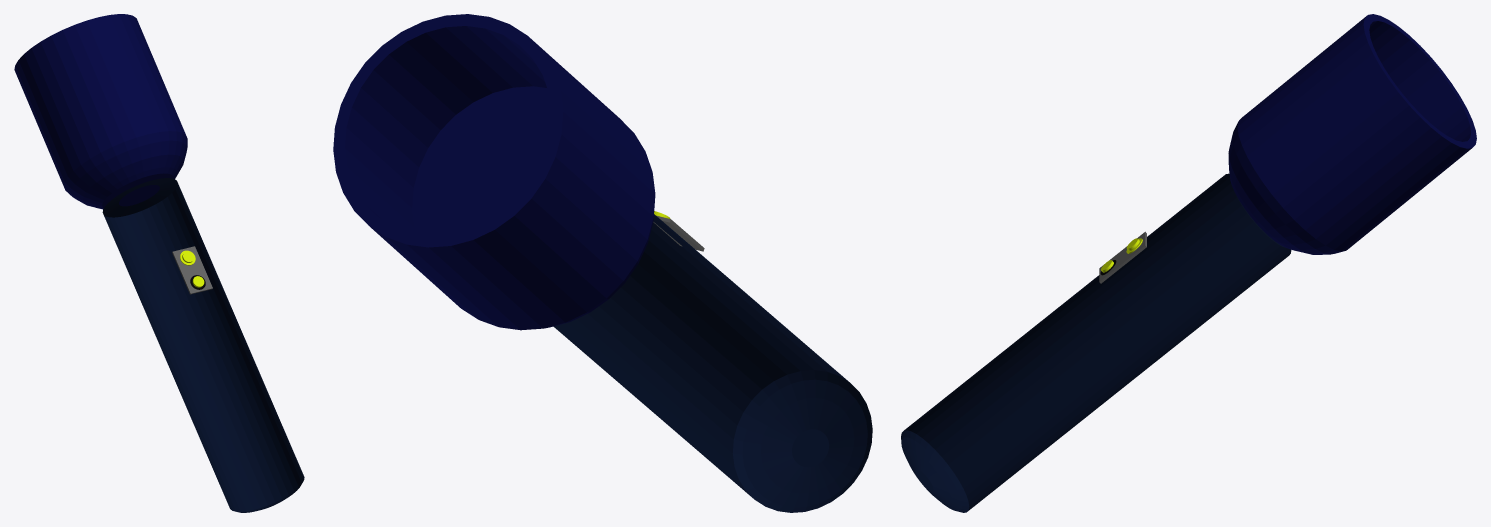
The model's file is LINTERNA - TERMINADA.fbx.
The picture shows the model from 3 angles, left to right: view 1: azimuth 30°, elevation 25°; view 2: azimuth 150°, elevation 25°; view 3: azimuth 270°, elevation 25°; orthographic projection. The views are drawn at different scales.
Parts seen in each view (by area): view 1: Cylinder.005; view 2: Cylinder.005; view 3: Cylinder.005.
Boxes of the visible parts, box(x1,y1,x2,y2) form: Cylinder.005: box(14, 14, 304, 512); Cylinder.005: box(333, 14, 872, 512); Cylinder.005: box(901, 14, 1476, 512).
Size of the model in its own units: 112 by 351 by 380.
